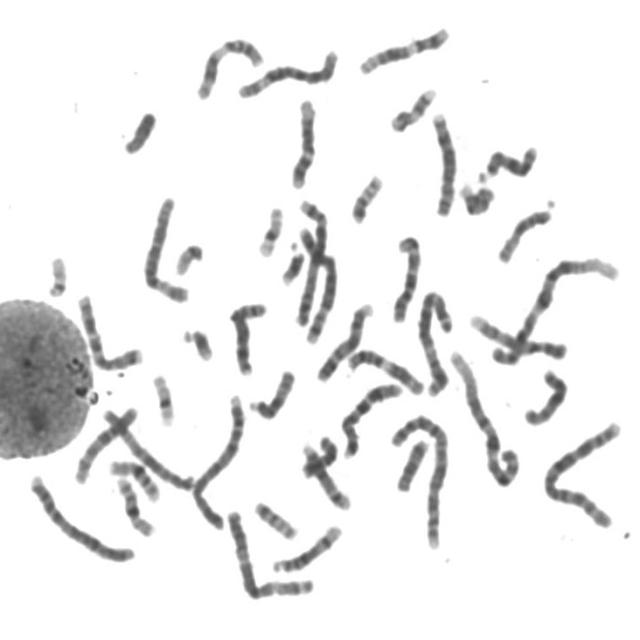A1: (484, 248, 624, 368), (445, 342, 525, 489)
A2: (538, 412, 628, 530), (386, 406, 453, 551)
A3: (221, 502, 318, 601), (412, 283, 458, 397)
B4: (25, 466, 138, 566), (186, 387, 248, 531)
B5: (293, 196, 337, 342), (292, 218, 342, 346)
C10: (69, 399, 142, 486), (386, 226, 425, 324)
C11: (192, 30, 268, 102), (342, 341, 429, 397)
C12: (354, 18, 455, 76), (286, 91, 320, 190)
C6: (232, 42, 342, 100), (138, 189, 193, 304)
C7: (72, 286, 146, 372), (336, 375, 406, 460)
C8: (426, 104, 461, 219), (226, 294, 271, 378)
C9: (465, 306, 572, 362), (312, 296, 377, 384)
D13: (519, 362, 572, 428), (473, 137, 541, 184)
D14: (268, 517, 346, 575), (297, 436, 355, 512)
D15: (493, 200, 557, 266), (245, 362, 298, 421)
E16: (112, 470, 158, 538), (105, 452, 163, 504)
E17: (386, 80, 440, 134), (458, 175, 497, 225)
E18: (392, 434, 432, 494), (297, 429, 341, 479)
F19: (147, 366, 178, 428), (254, 198, 286, 258)
F20: (249, 494, 301, 541), (347, 167, 388, 224)
G21: (178, 320, 218, 363), (277, 240, 308, 287)
G22: (170, 235, 207, 277), (42, 247, 71, 299)
X: (98, 400, 198, 493)
Y: (119, 103, 161, 156)
